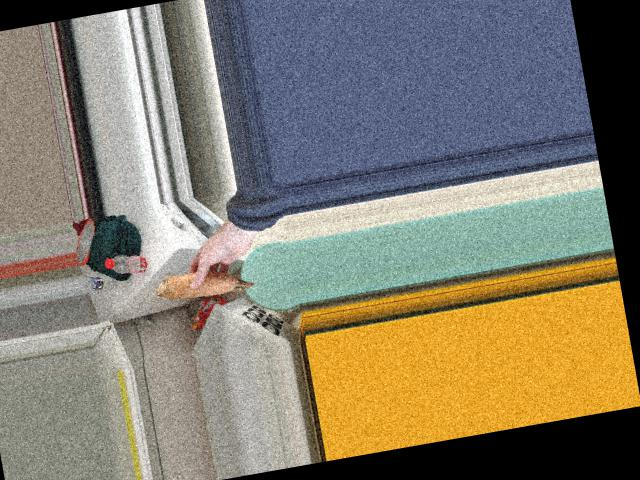sweet_potato: (149, 257, 254, 312)
